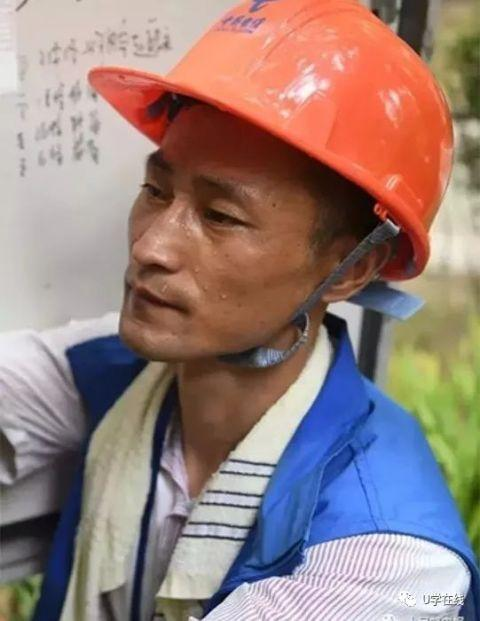helmet: (80, 1, 458, 283)
